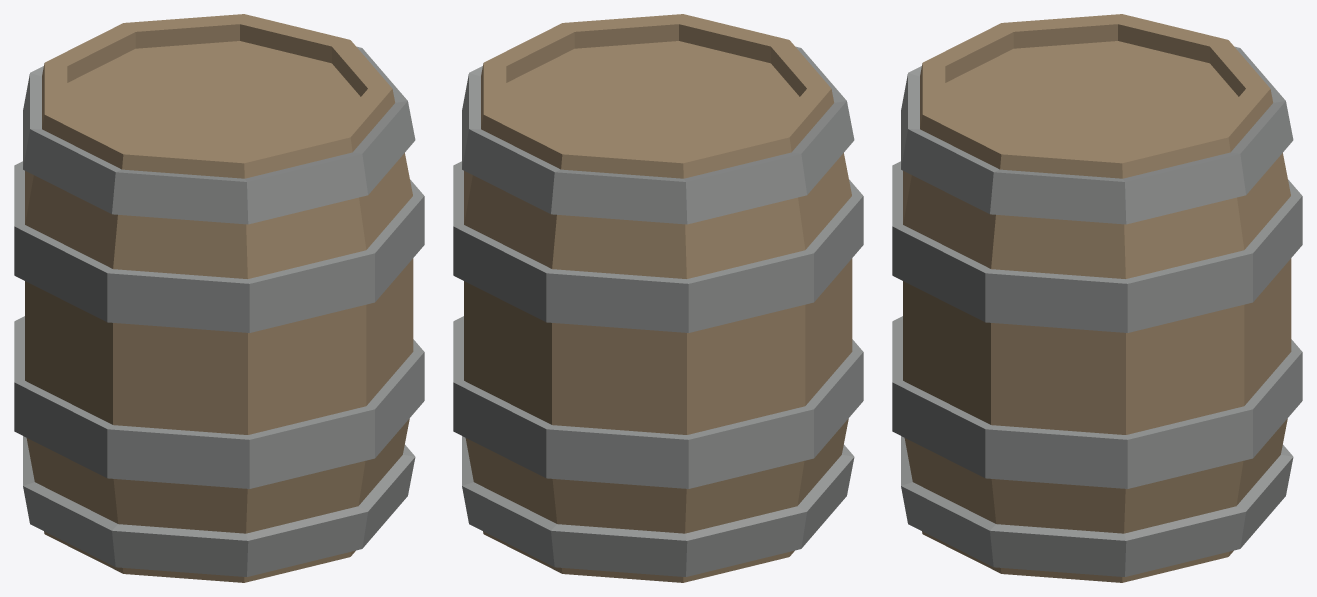
The model's file is Sandy Four Ringed Barrel.fbx.
The picture shows the model from 3 angles, left to right: view 1: azimuth 30°, elevation 25°; view 2: azimuth 150°, elevation 25°; view 3: azimuth 270°, elevation 25°; orthographic projection.
Parts seen in each view (by area): view 1: Sandy Four Ringed Barrel; view 2: Sandy Four Ringed Barrel; view 3: Sandy Four Ringed Barrel.
Part boxes in pixels (x1,y1,x2,y2): Sandy Four Ringed Barrel: (14, 14, 424, 582); Sandy Four Ringed Barrel: (453, 14, 863, 582); Sandy Four Ringed Barrel: (892, 14, 1302, 582).
Size of the model in its own units: 180 by 200 by 177.
